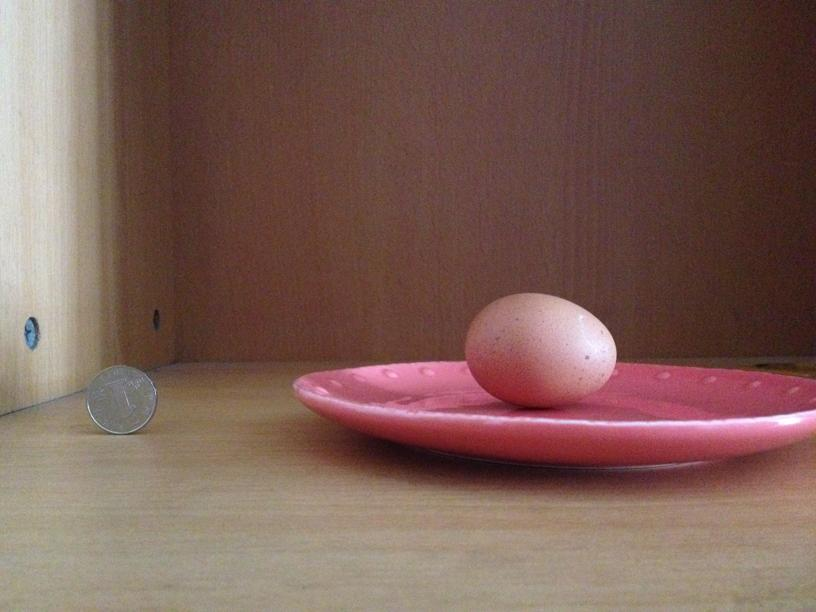coin: (88, 365, 160, 435)
egg: (464, 292, 619, 408)
